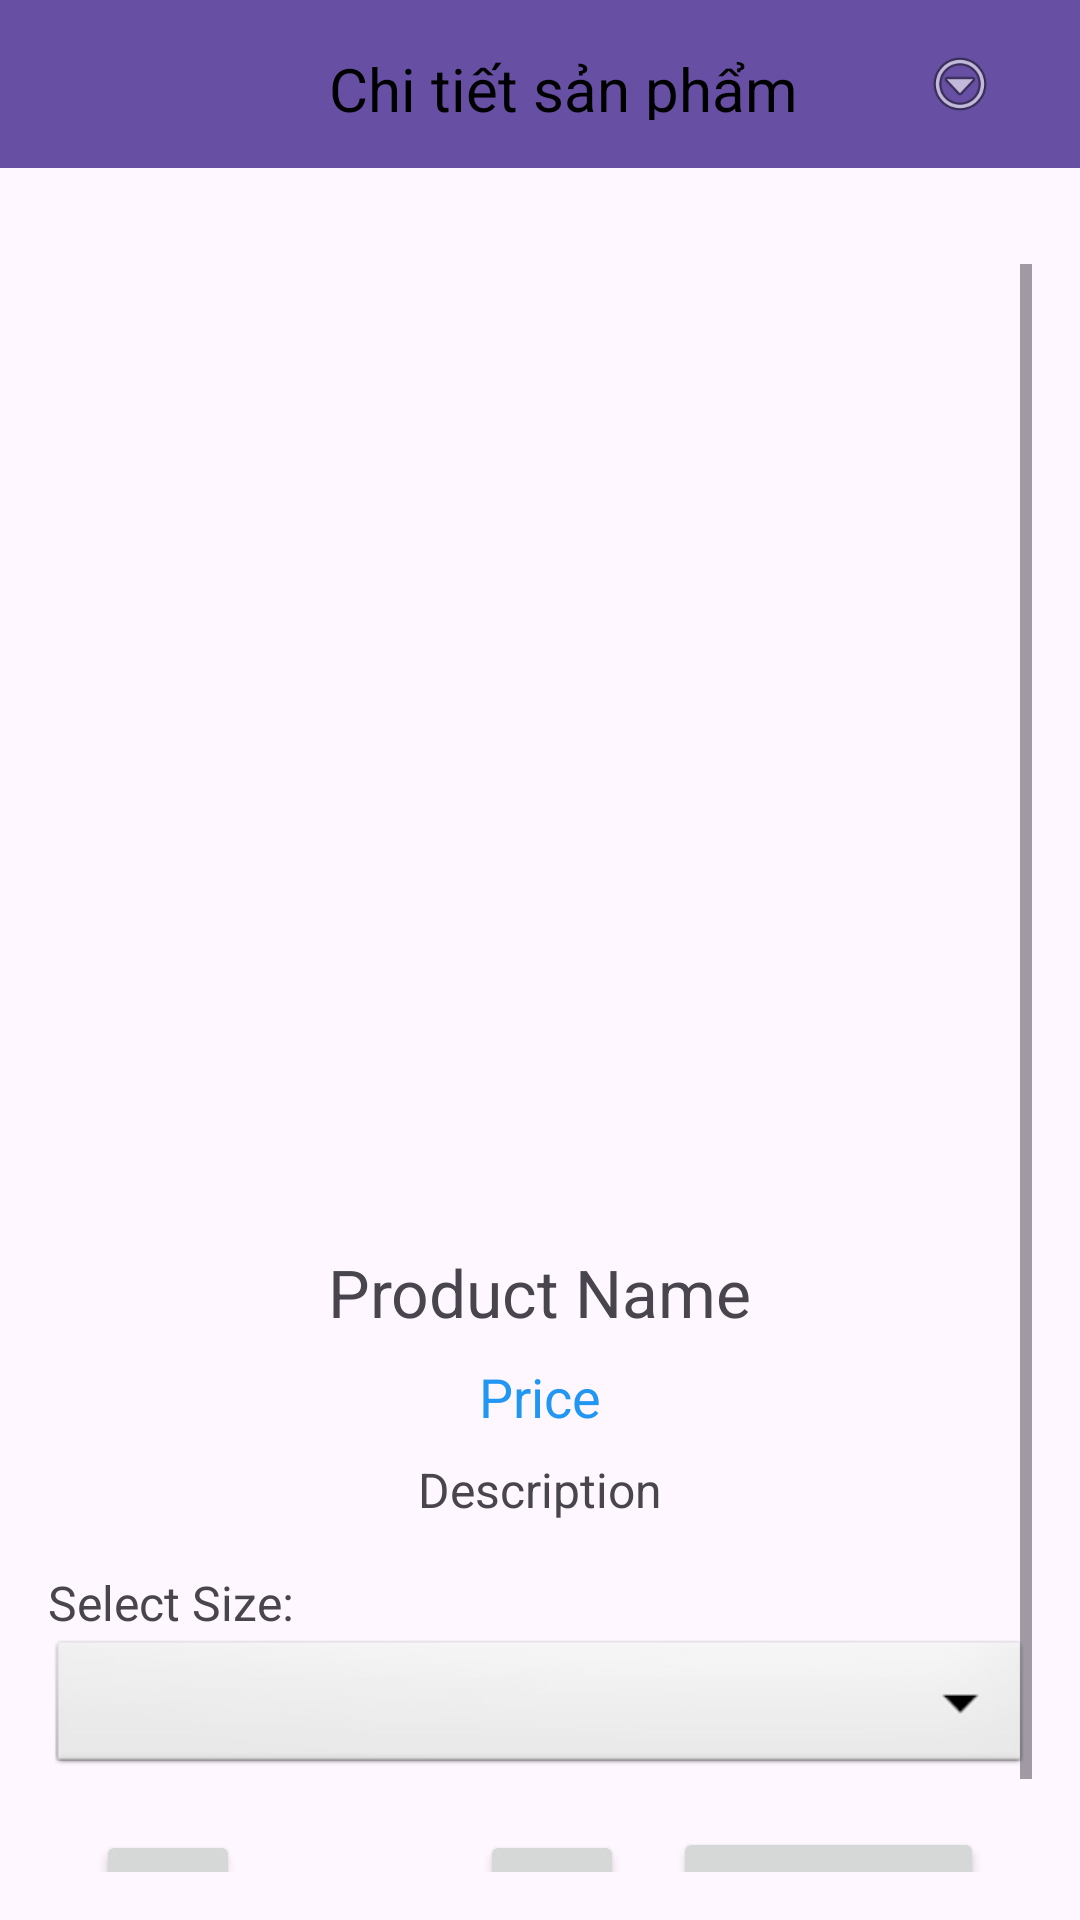

Point at icon controls on the screen. Image size 1080x1920, points as (x=x, y=y).
Overflow Icon: (x=960, y=84)
